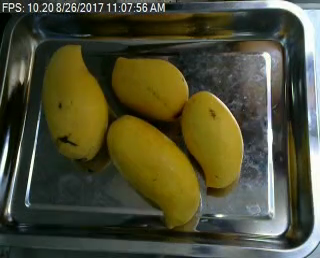Mango: (103, 111, 201, 232), (41, 42, 111, 157), (179, 87, 250, 190), (106, 52, 190, 121)
